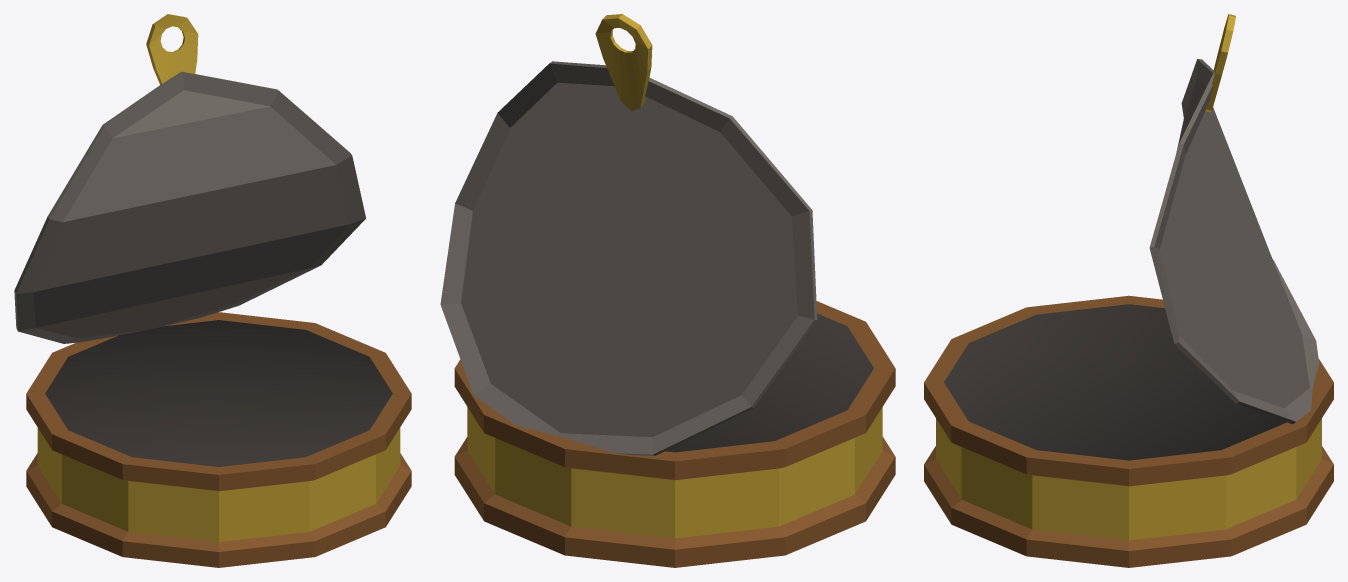
Rendered from collectable_can.fbx.
3 renders of one model, left to right at view 1: azimuth 30°, elevation 25°; view 2: azimuth 150°, elevation 25°; view 3: azimuth 270°, elevation 25°, orthographic. The views are drawn at different scales.
Visible parts, largest first — view 1: quest_can; view 2: quest_can; view 3: quest_can.
Part boxes in pixels (box(x1,y1,x2,y2)): quest_can: box(14, 14, 411, 567); quest_can: box(440, 14, 895, 567); quest_can: box(924, 14, 1333, 567).
Bounding box in the file's own units: 0.2794 × 0.3479 × 0.2777.
